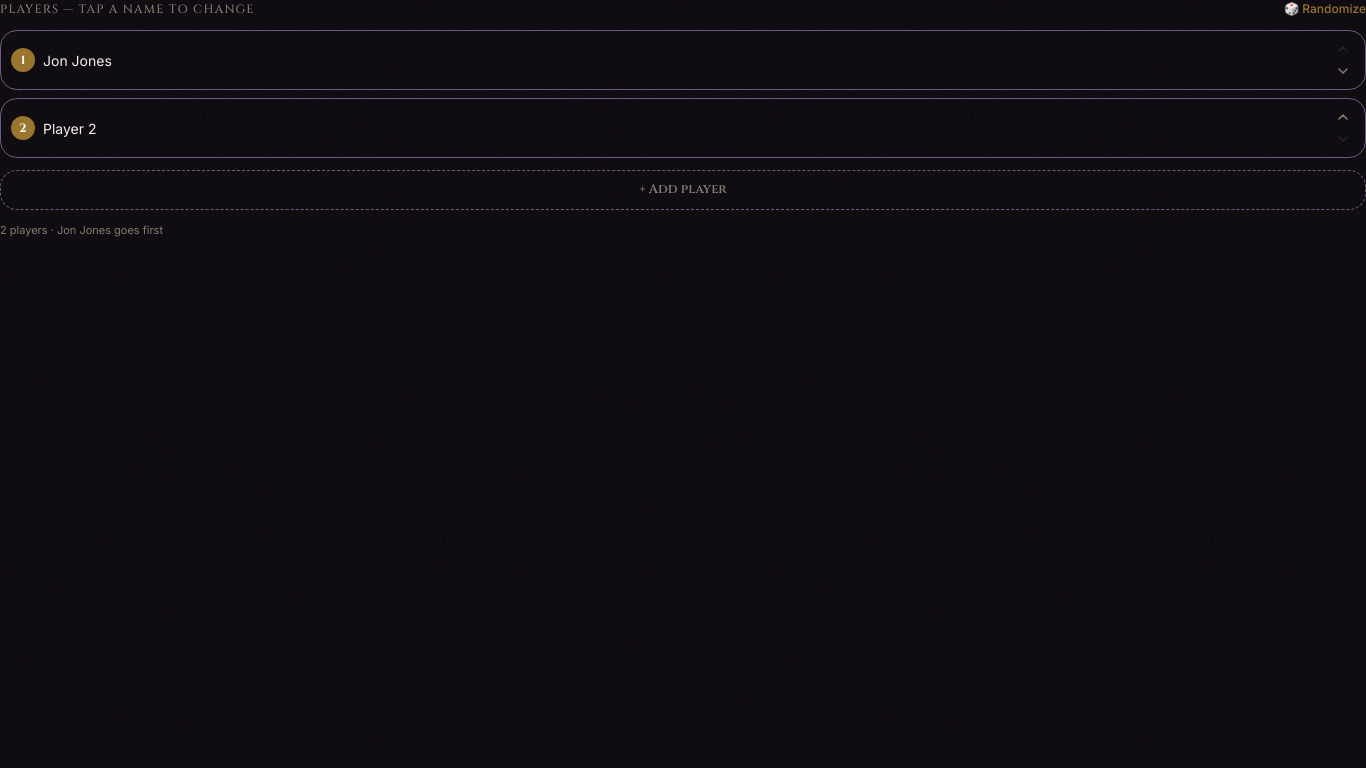
Test: PlayerRoster › opens the slot sheet when a name is tapped
Click the button "Player 2". click: (70,128)
box: [43, 118, 1323, 138]
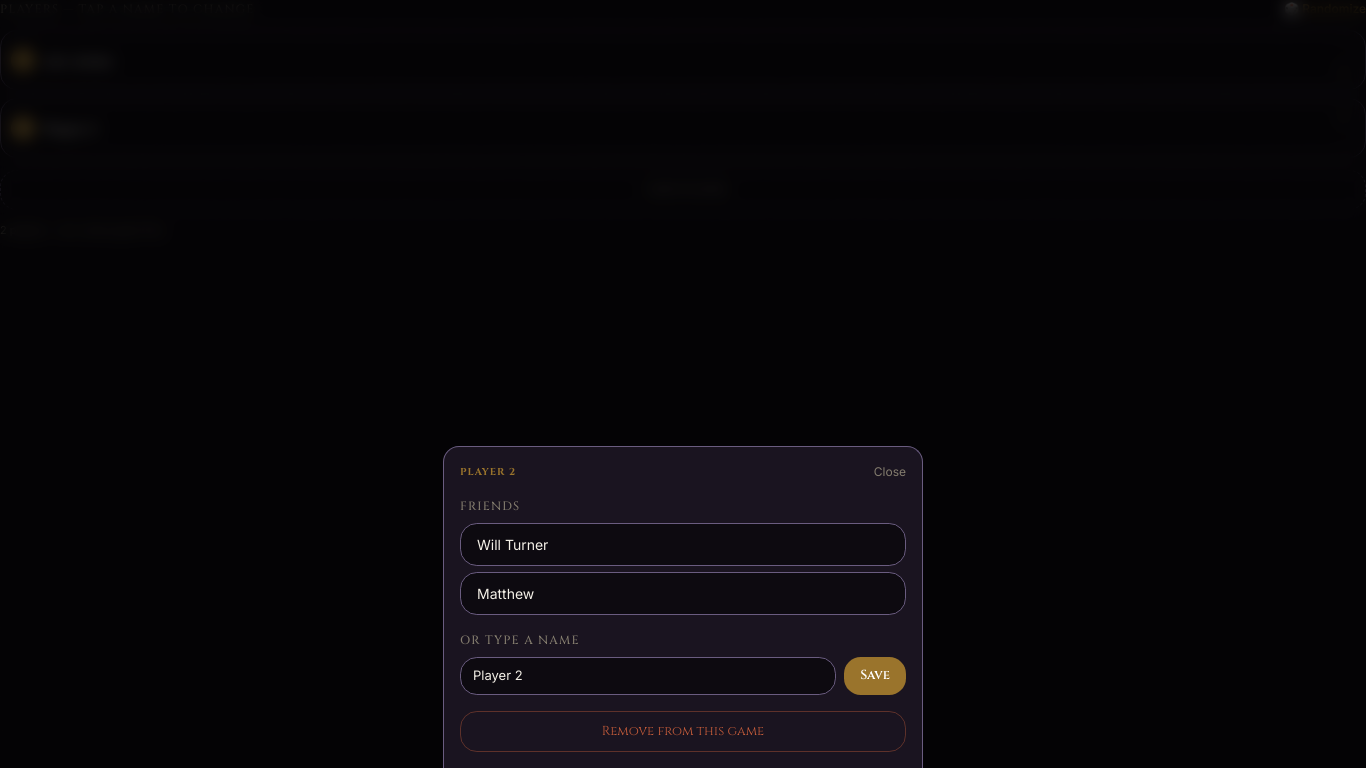
expect the dialog is shown: met, box [443, 446, 923, 767]
expect the button "Will Turner" is shown: met, box [460, 523, 906, 566]
